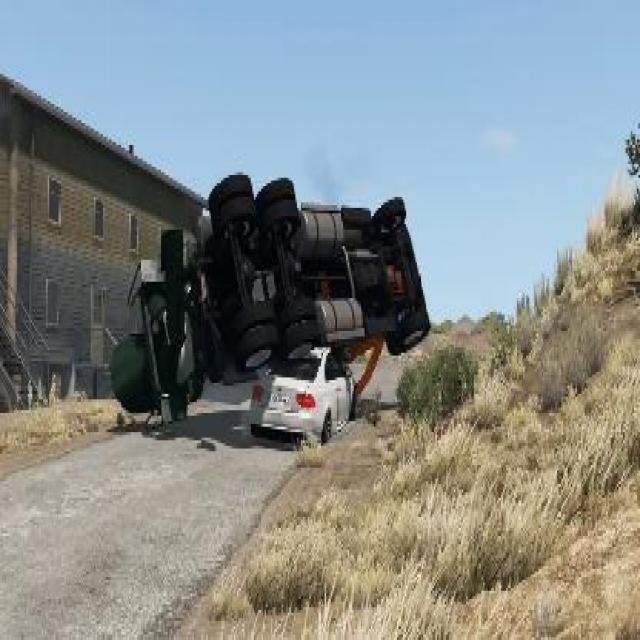accident: (108, 164, 430, 451)
